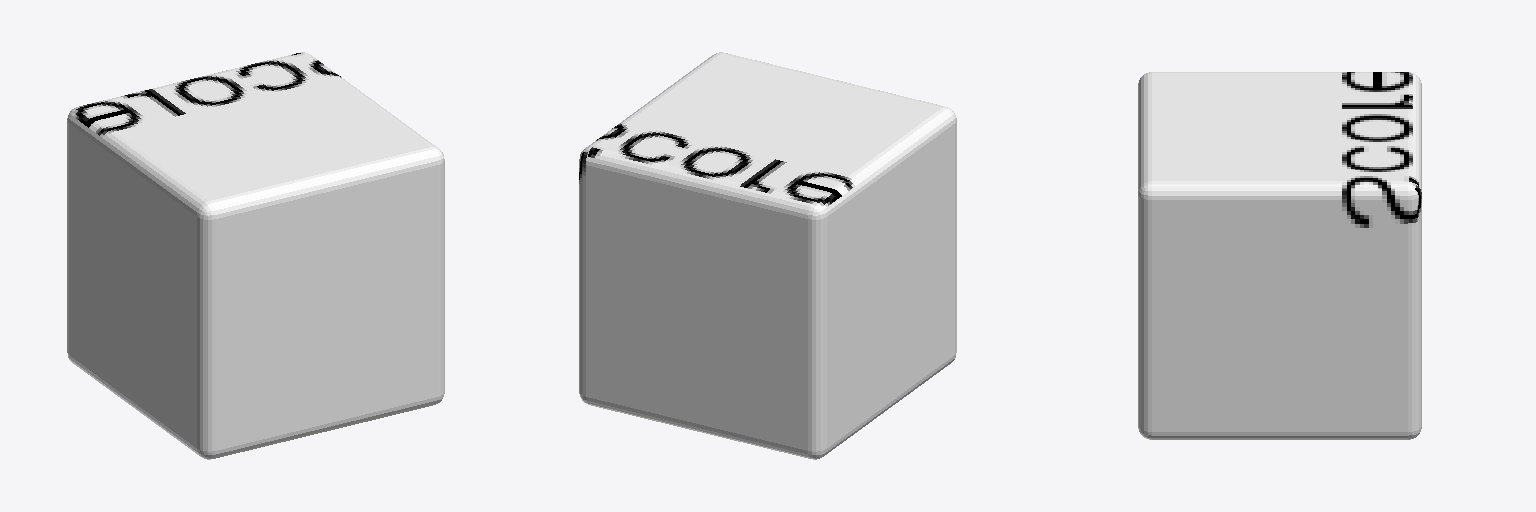
3 renders of one model, left to right at view 1: azimuth 30°, elevation 25°; view 2: azimuth 150°, elevation 25°; view 3: azimuth 270°, elevation 25°, orthographic.
Parts seen in each view (by area): view 1: Cube_Finished_Cube.001; view 2: Cube_Finished_Cube.001; view 3: Cube_Finished_Cube.001.
Boxes of the visible parts, x1,y1,x2,y2 form: Cube_Finished_Cube.001: [67, 52, 444, 459]; Cube_Finished_Cube.001: [579, 52, 956, 459]; Cube_Finished_Cube.001: [1138, 72, 1421, 439].
Size of the model in its own units: 2 by 2 by 2.
Materials: 1 (1 with a texture image).